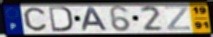2: (139, 5, 165, 32)
6: (109, 4, 132, 33)
A: (81, 6, 109, 31)
C: (22, 6, 48, 32)
D: (47, 6, 74, 33)
Z: (164, 5, 192, 31)
